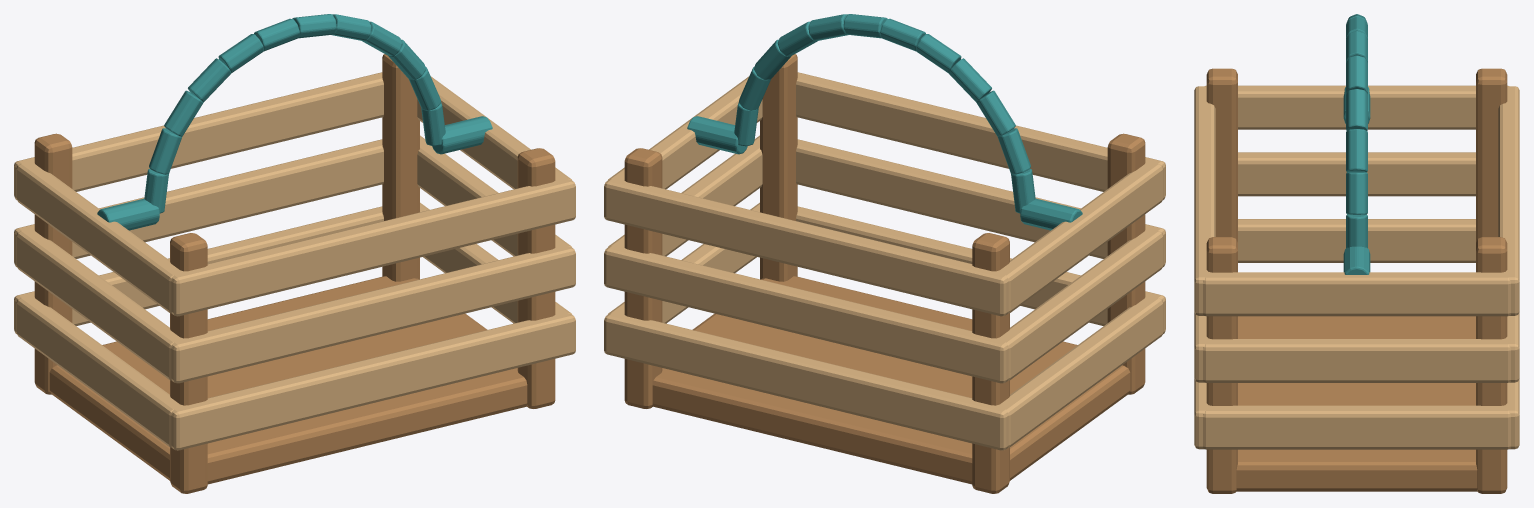
The model's file is P070_prop_basket.glb.
3 views of the same model, side by side, from view 1: azimuth 30°, elevation 25°; view 2: azimuth 150°, elevation 25°; view 3: azimuth 270°, elevation 25° (orthographic).
Visible parts, largest first — view 1: P070_base_001, P070_slat_002, P070_slat_006, P070_slat_010, P070_slat_011, P070_slat_007, P070_end_slat_008, P070_end_slat_004, P070_end_slat_012, P070_post_017, P070_post_014, P070_post_016 (+19 smaller); view 2: P070_base_001, P070_slat_003, P070_slat_011, P070_slat_007, P070_slat_010, P070_slat_006, P070_end_slat_008, P070_end_slat_004, P070_end_slat_012, P070_post_016, P070_post_015, P070_post_017 (+19 smaller); view 3: P070_base_001, P070_end_slat_005, P070_end_slat_013, P070_end_slat_009, P070_end_slat_008, P070_end_slat_012, P070_end_slat_004, P070_post_014, P070_post_015, P070_slat_011, P070_slat_010, P070_post_016 (+12 smaller).
Part boxes in pixels (box(x1,y1,x2,y2)): P070_base_001: box(49, 276, 527, 484); P070_slat_002: box(171, 311, 575, 450); P070_slat_006: box(171, 244, 575, 383); P070_slat_010: box(171, 177, 575, 316); P070_slat_011: box(14, 72, 383, 199); P070_slat_007: box(14, 139, 383, 267); P070_end_slat_008: box(16, 228, 183, 380); P070_end_slat_004: box(16, 295, 183, 447); P070_end_slat_012: box(16, 161, 182, 313); P070_post_017: box(382, 54, 419, 281); P070_post_014: box(170, 233, 207, 493); P070_post_016: box(517, 148, 555, 408); P070_base_001: box(652, 276, 1130, 484); P070_slat_003: box(604, 311, 1008, 450); P070_slat_011: box(604, 177, 1008, 316); P070_slat_007: box(604, 244, 1008, 383); P070_slat_010: box(796, 72, 1165, 199); P070_slat_006: box(796, 139, 1165, 267); P070_end_slat_008: box(997, 228, 1163, 380); P070_end_slat_004: box(997, 295, 1163, 447); P070_end_slat_012: box(997, 161, 1163, 313); P070_post_016: box(760, 54, 797, 281); P070_post_015: box(972, 233, 1009, 493); P070_post_017: box(624, 148, 662, 408); P070_base_001: box(1236, 316, 1477, 491); P070_end_slat_005: box(1203, 405, 1510, 449); P070_end_slat_013: box(1203, 272, 1510, 316); P070_end_slat_009: box(1203, 339, 1510, 382); P070_end_slat_008: box(1238, 152, 1475, 196); P070_end_slat_012: box(1205, 85, 1508, 129); P070_end_slat_004: box(1238, 219, 1475, 262); P070_post_014: box(1206, 68, 1237, 242); P070_post_015: box(1476, 68, 1507, 242); P070_slat_011: box(1498, 86, 1519, 315); P070_slat_010: box(1194, 86, 1215, 315); P070_post_016: box(1206, 237, 1237, 493).
Size of the model in its own units: 0.372 by 0.3326 by 0.261.
